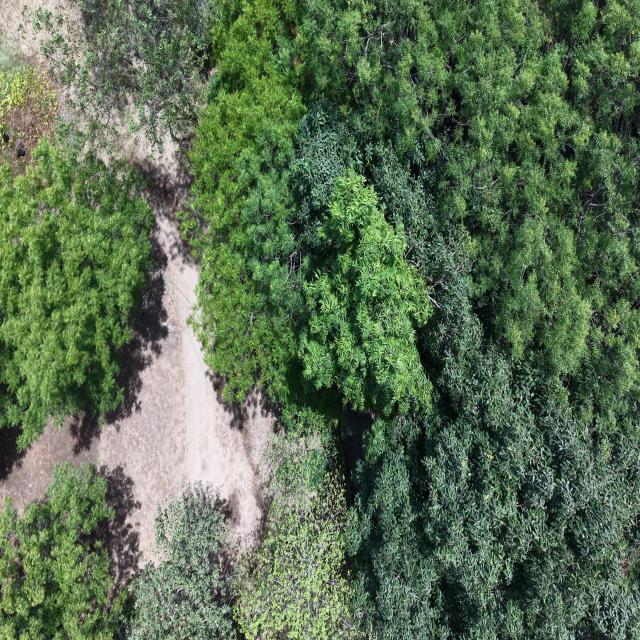DRY_AREA: (0, 150, 272, 578)
VEGETATION_TREE: (177, 0, 639, 639), (195, 2, 639, 638), (186, 3, 639, 424), (307, 3, 639, 424), (183, 0, 430, 411), (348, 355, 639, 637), (0, 62, 151, 449), (183, 0, 304, 401), (0, 139, 151, 448), (0, 463, 235, 639), (301, 169, 432, 415), (25, 0, 220, 149), (234, 412, 356, 639), (0, 463, 127, 639), (236, 474, 355, 639), (128, 485, 235, 639), (0, 65, 57, 172), (0, 36, 20, 73)
